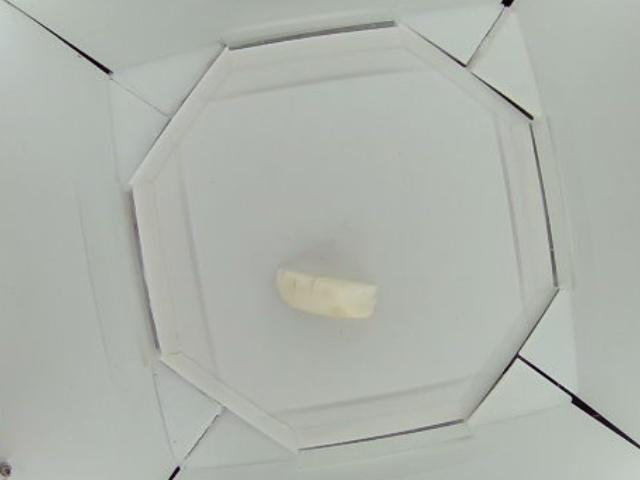Mooli: (277, 258, 375, 324)
